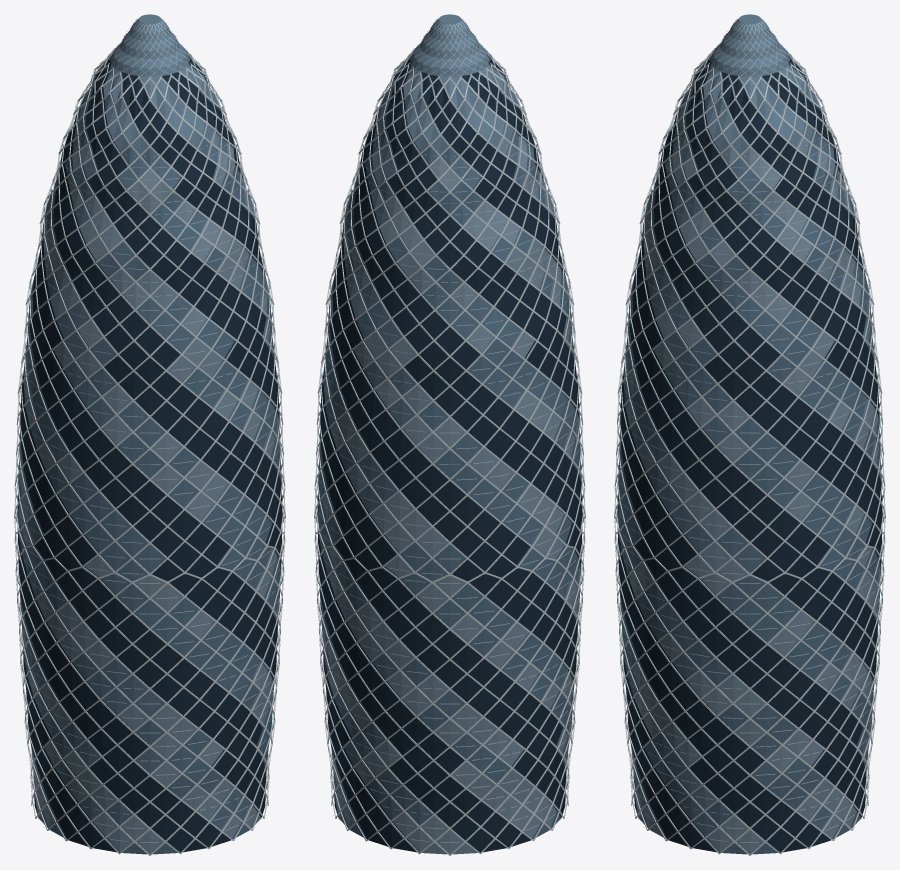
File: the-gherkin-near.glb
The picture shows the model from 3 angles, left to right: view 1: azimuth 30°, elevation 25°; view 2: azimuth 150°, elevation 25°; view 3: azimuth 270°, elevation 25°; orthographic projection.
Visible parts, largest first — view 1: the-gherkin-0-well, the-gherkin-0-steel, the-gherkin-0-glass, the-gherkin-0-glow, the-gherkin-0-lens; view 2: the-gherkin-0-well, the-gherkin-0-steel, the-gherkin-0-glass, the-gherkin-0-glow, the-gherkin-0-lens; view 3: the-gherkin-0-well, the-gherkin-0-steel, the-gherkin-0-glass, the-gherkin-0-glow, the-gherkin-0-lens.
Boxes of the visible parts, x1=… form: the-gherkin-0-well: x1=17, y1=56, x2=282, y2=852; the-gherkin-0-steel: x1=14, y1=19, x2=285, y2=855; the-gherkin-0-glass: x1=17, y1=130, x2=281, y2=854; the-gherkin-0-glow: x1=18, y1=122, x2=280, y2=853; the-gherkin-0-lens: x1=76, y1=14, x2=222, y2=154; the-gherkin-0-well: x1=317, y1=56, x2=582, y2=852; the-gherkin-0-steel: x1=314, y1=19, x2=585, y2=855; the-gherkin-0-glass: x1=317, y1=130, x2=581, y2=839; the-gherkin-0-glow: x1=322, y1=122, x2=580, y2=854; the-gherkin-0-lens: x1=376, y1=14, x2=522, y2=154; the-gherkin-0-well: x1=617, y1=56, x2=882, y2=852; the-gherkin-0-steel: x1=614, y1=19, x2=885, y2=855; the-gherkin-0-glass: x1=617, y1=122, x2=880, y2=854; the-gherkin-0-glow: x1=619, y1=130, x2=881, y2=853; the-gherkin-0-lens: x1=676, y1=14, x2=822, y2=154.
Size of the model in its own units: 56.4 by 180 by 56.4.
